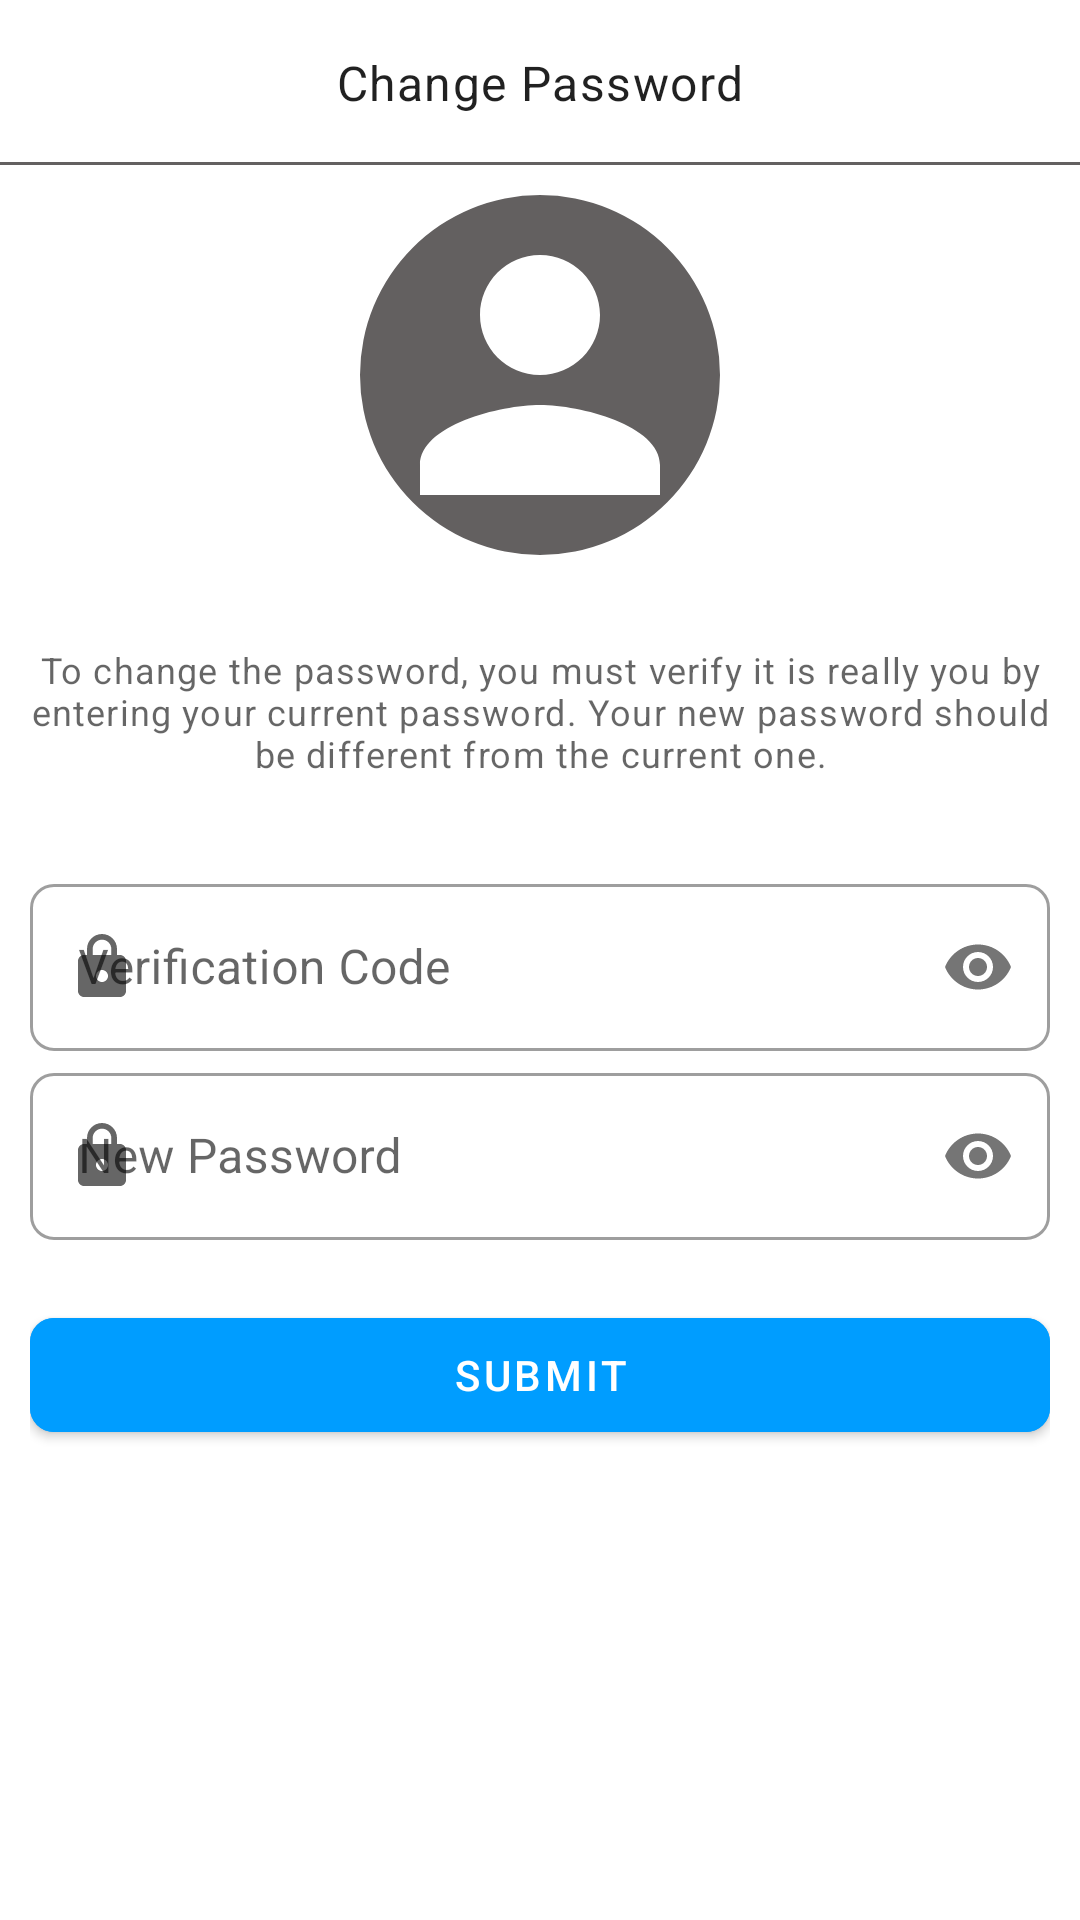

Icons on this 1080w x 1920h Android screen, each with the point to tap as (x=x, y=y):
person: (x=540, y=375)
